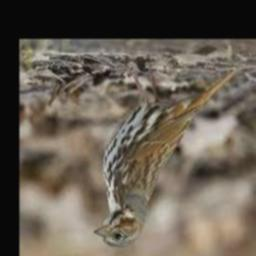Sparrow: (92, 69, 238, 248)
